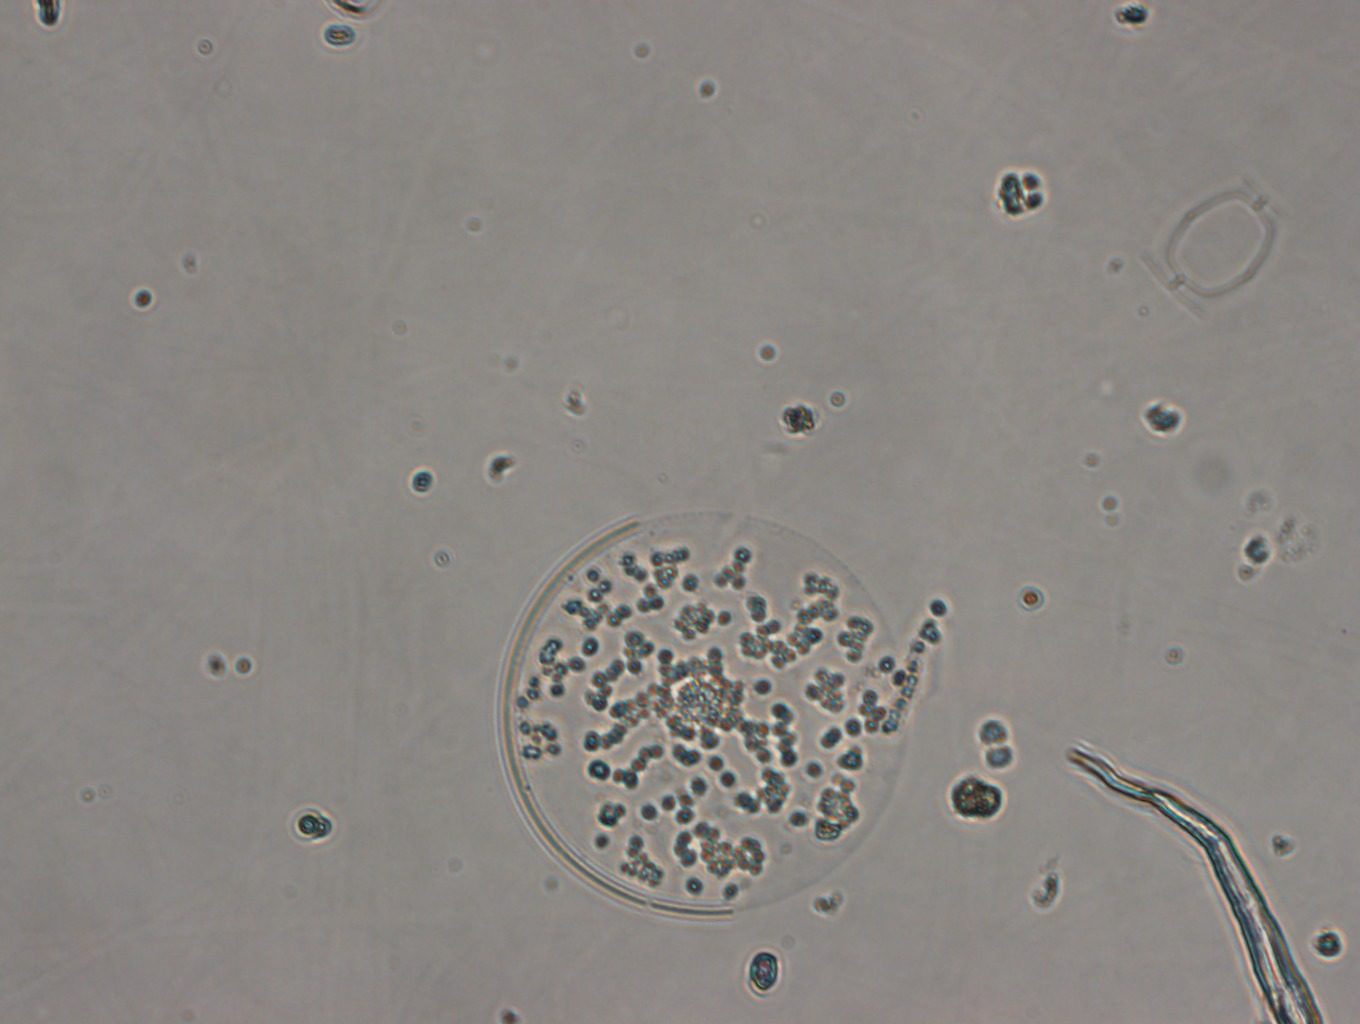coscinodiscus: (485, 510, 922, 919)
